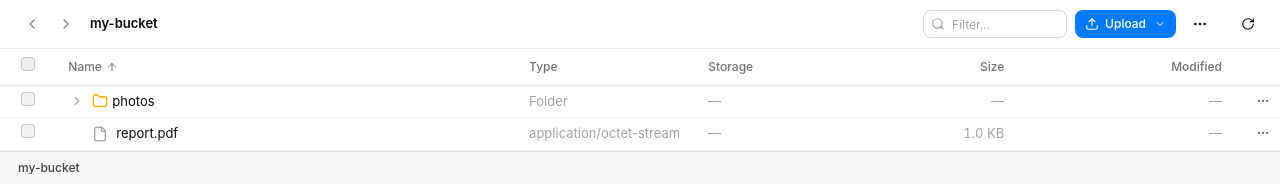
Test: ObjectBrowser selection / checkbox behaviour › header checkbox enters indeterminate state when a subset is selected and selects all on next click
Expected: the text "report.pdf" is shown, [116, 125, 178, 141]
What coordinates should you click on to do the following:
click the checkbox named "Select report.pdf"
I would click on:
 (28, 131)
Its box is [21, 124, 35, 138].
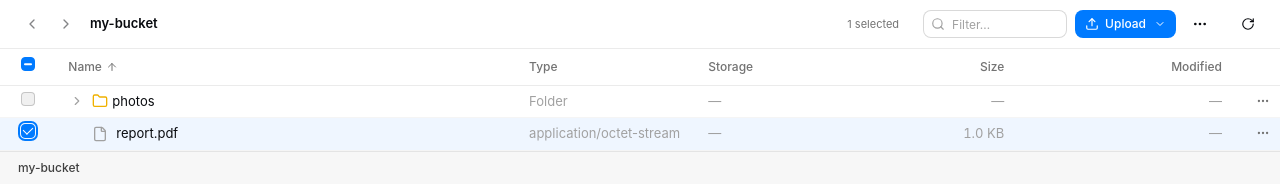
What coordinates should you click on to do the following:
click the checkbox named "Select all"
I would click on:
 (28, 64)
Its box is [21, 57, 35, 71].
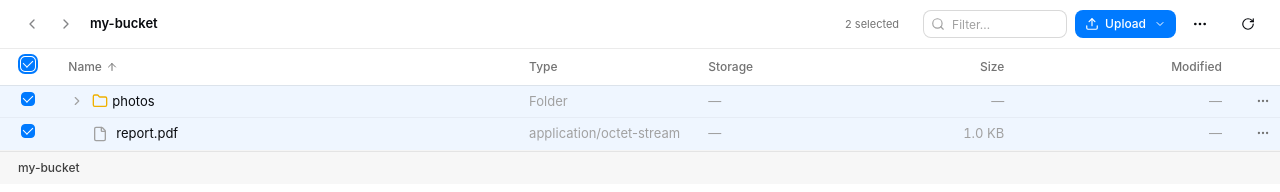
Expected: the checkbox named "Select report.pdf" is checked, [21, 124, 35, 138]
Expected: the checkbox named "Select all" is checked, [21, 57, 35, 71]
Expected: the checkbox named "Select photos" is checked, [21, 92, 35, 106]
